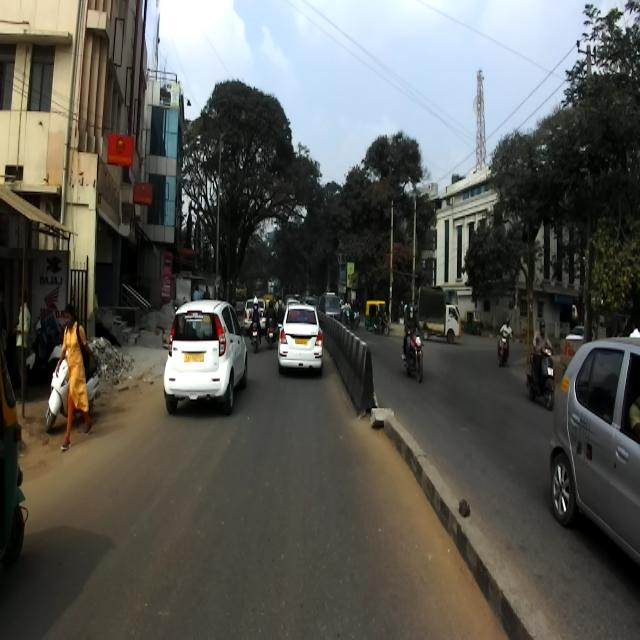car ahead at: (164, 298, 251, 418), (278, 299, 322, 374)
person ahead at: (56, 303, 94, 453)
